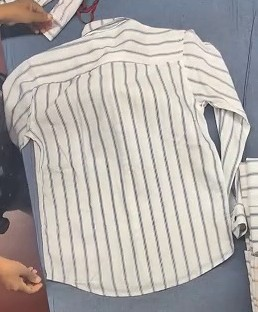SHIRT: (4, 26, 258, 264)
